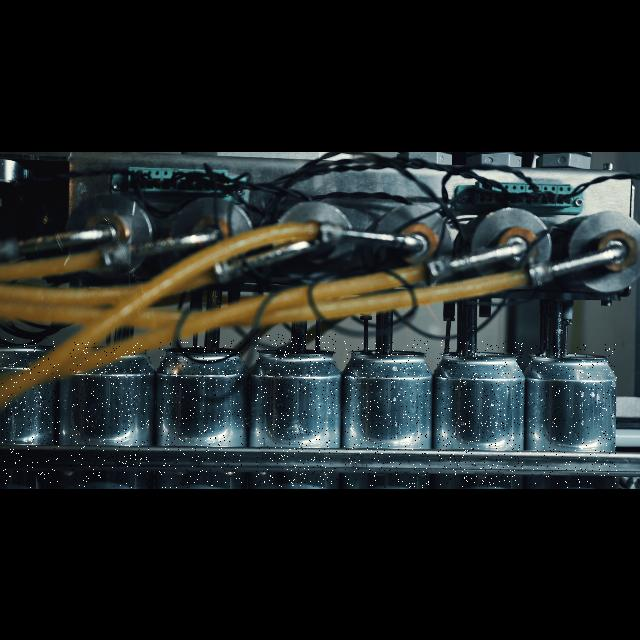empty: (344, 340, 430, 488), (437, 340, 523, 488), (529, 344, 617, 488), (255, 334, 337, 488), (159, 340, 243, 488), (70, 342, 150, 488), (2, 338, 60, 488)
